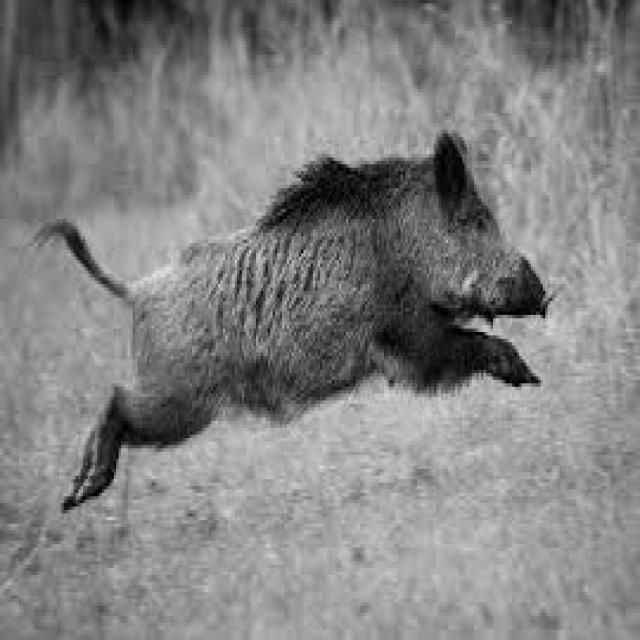boar: (41, 133, 550, 508)
